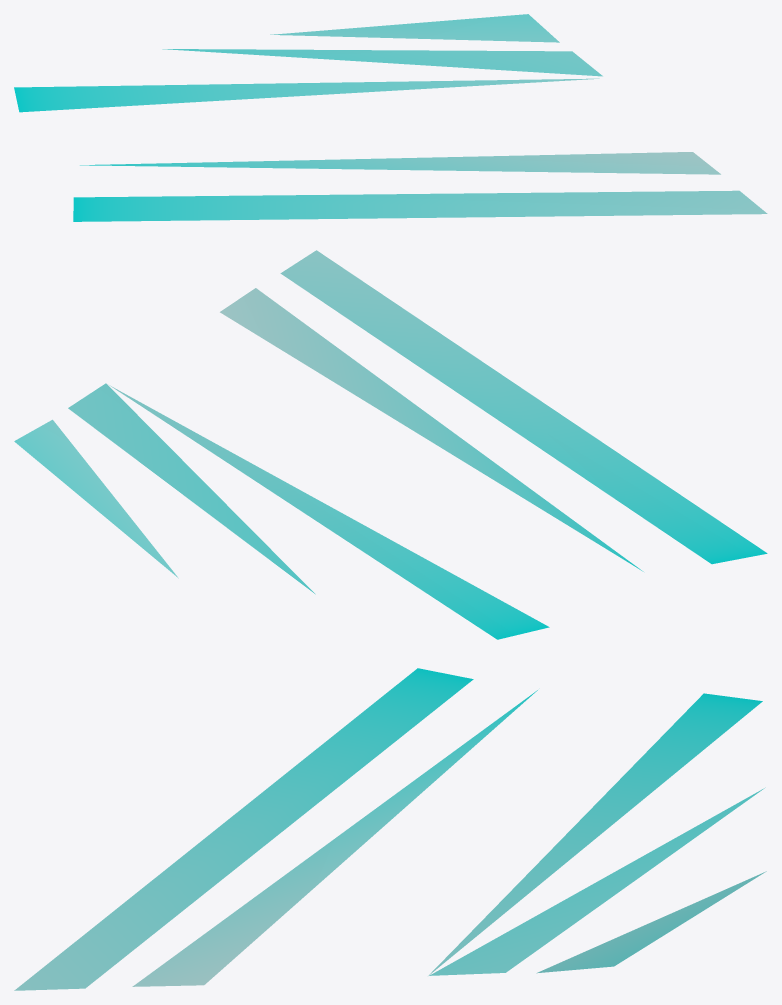
The model's file is cell_78_55.fbx.
3 views of the same model, one above another, from view 1: azimuth 30°, elevation 25°; view 2: azimuth 150°, elevation 25°; view 3: azimuth 270°, elevation 25° (orthographic). The views are drawn at different scales.
Visible parts, largest first — view 1: SpaceCenter_Long3_GenerateRoad_Sand_TireTracks_Narrow_Mesh_x; view 2: SpaceCenter_Long3_GenerateRoad_Sand_TireTracks_Narrow_Mesh_x; view 3: SpaceCenter_Long3_GenerateRoad_Sand_TireTracks_Narrow_Mesh_x.
Boxes of the visible parts, box(x1,y1,x2,y2) form: SpaceCenter_Long3_GenerateRoad_Sand_TireTracks_Narrow_Mesh_x: box(14, 14, 767, 221); SpaceCenter_Long3_GenerateRoad_Sand_TireTracks_Narrow_Mesh_x: box(14, 250, 767, 639); SpaceCenter_Long3_GenerateRoad_Sand_TireTracks_Narrow_Mesh_x: box(14, 668, 766, 990).
Bounding box in the file's own units: 7.03 × 0.2681 × 6.96.
